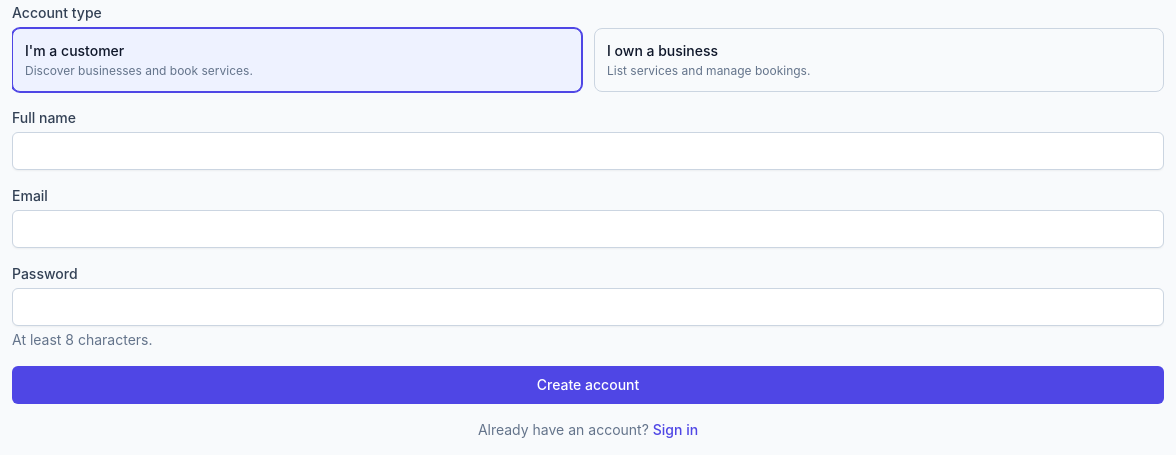
Scenario: RegisterForm › validates required fields and a minimum password length
Type "Jane Doe" into the field labelled "Full name" at [588, 151], box top-left (12, 132), bottom-right (1164, 170)
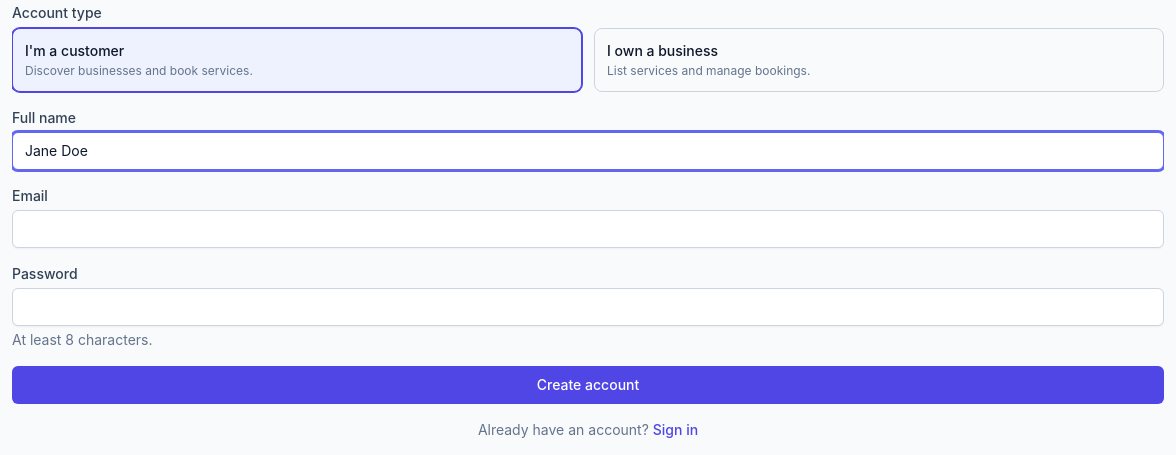
Type "jane@example.com" into the field labelled "Email" at [588, 229], box top-left (12, 210), bottom-right (1164, 248)
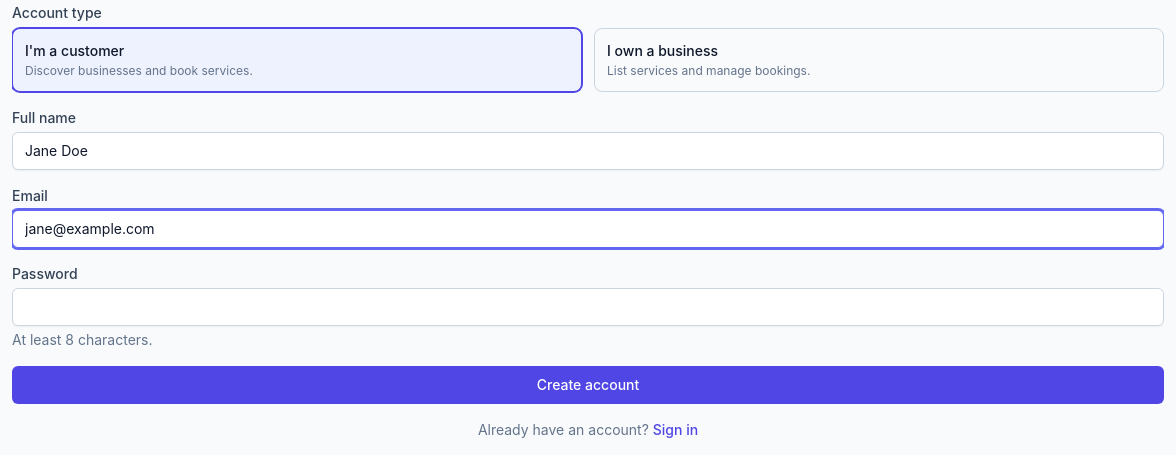
Type "short" into the password field labelled "Password" at [588, 307], box top-left (12, 288), bottom-right (1164, 326)
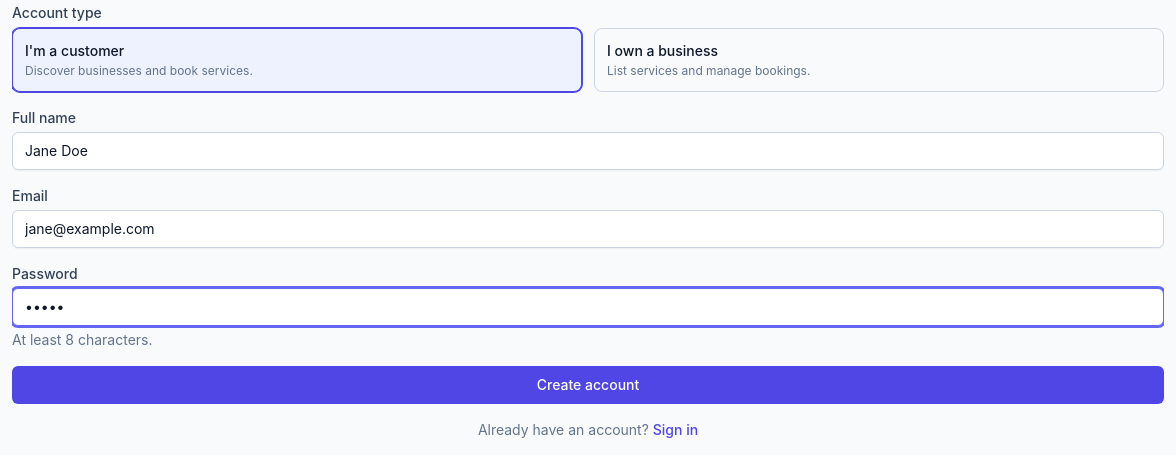
Click the button "Create account" at [588, 385], box top-left (12, 366), bottom-right (1164, 404)
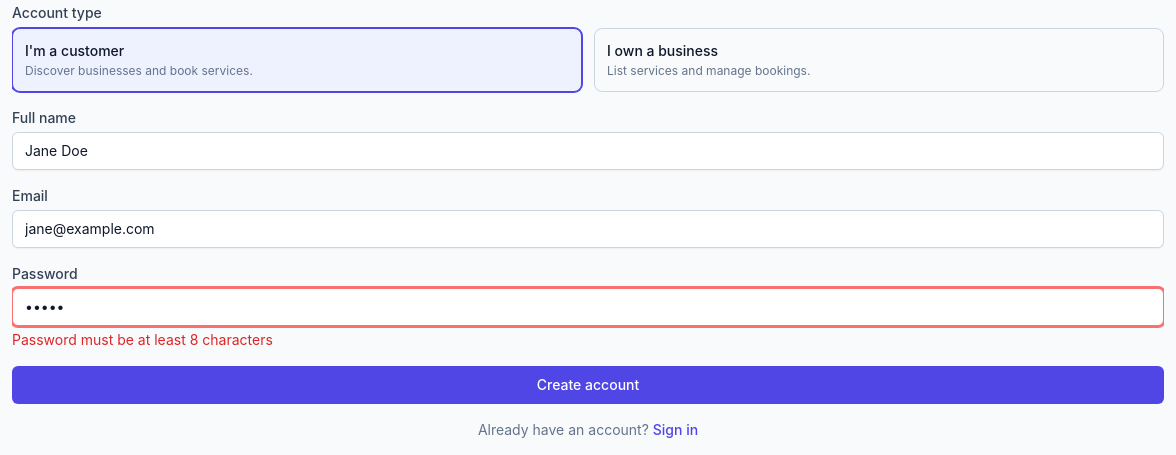
Check: the text "Password must be at least 8 characters" is shown, box top-left (12, 331), bottom-right (273, 348)
